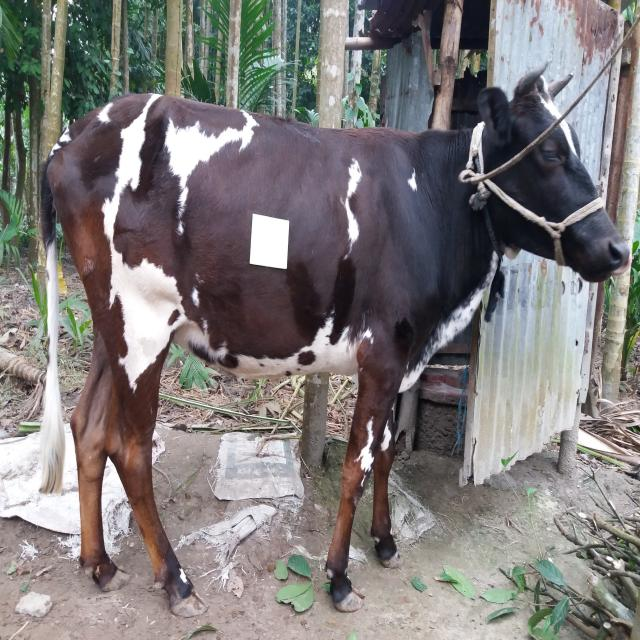badan_sapi: (77, 118, 405, 384)
sapi: (29, 59, 633, 616)
